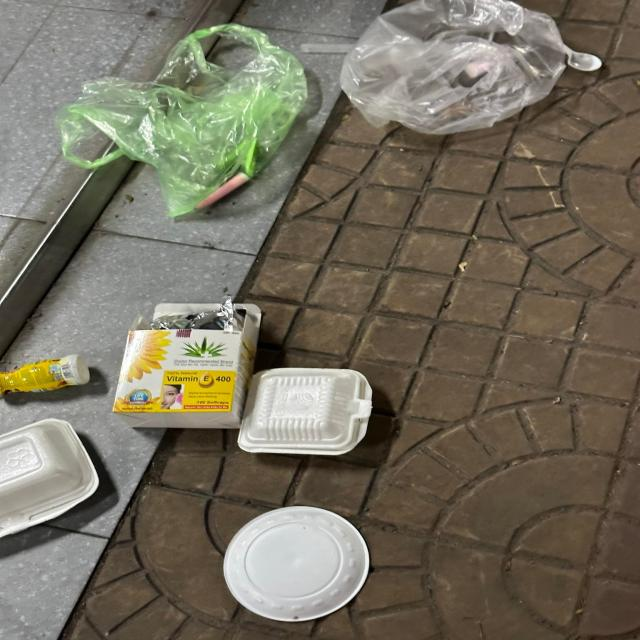bag: (57, 22, 308, 216), (339, 0, 566, 134)
bottle: (0, 355, 91, 396)
cardboard box: (112, 304, 262, 428)
drinking straw: (300, 42, 354, 54)
foam box: (0, 416, 101, 538), (238, 368, 374, 455)
plastic holder: (222, 506, 370, 621)
plastic utensil: (563, 41, 603, 72)
